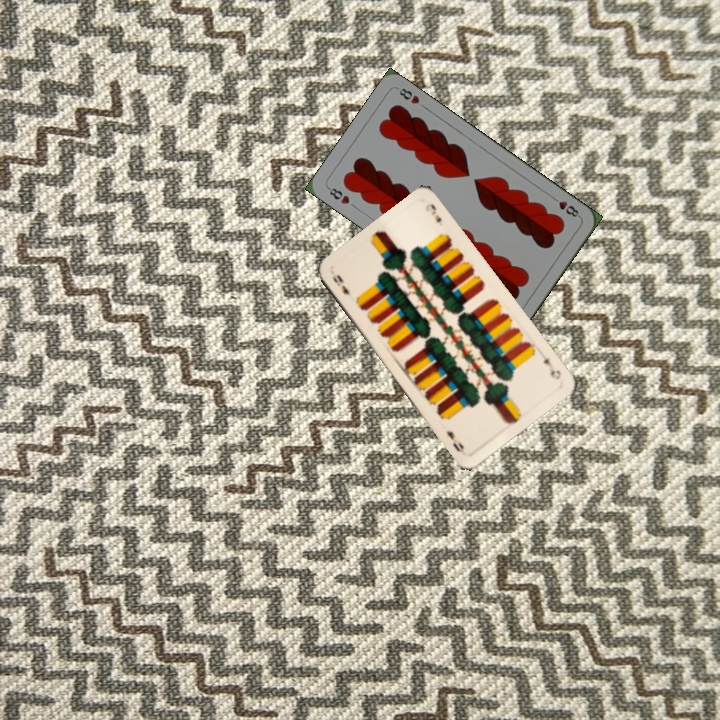E9: (539, 354, 564, 382), (328, 271, 352, 297)
H8: (547, 192, 583, 220), (323, 183, 352, 207)
